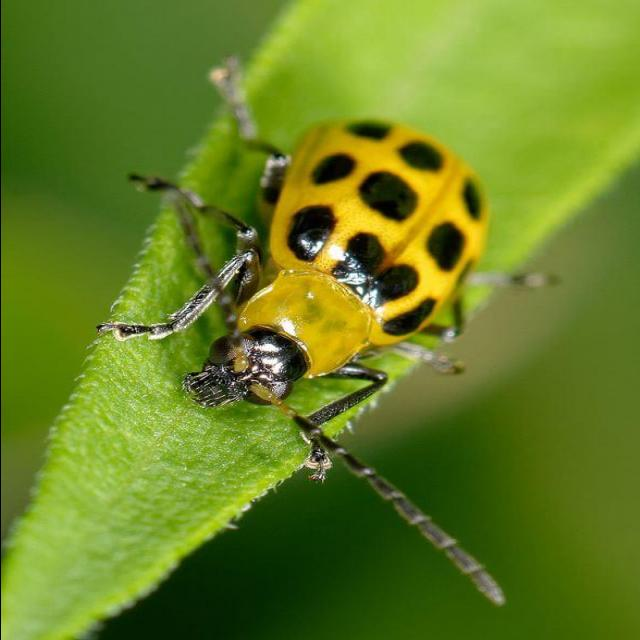cucumber_beetle: (88, 61, 584, 618)
